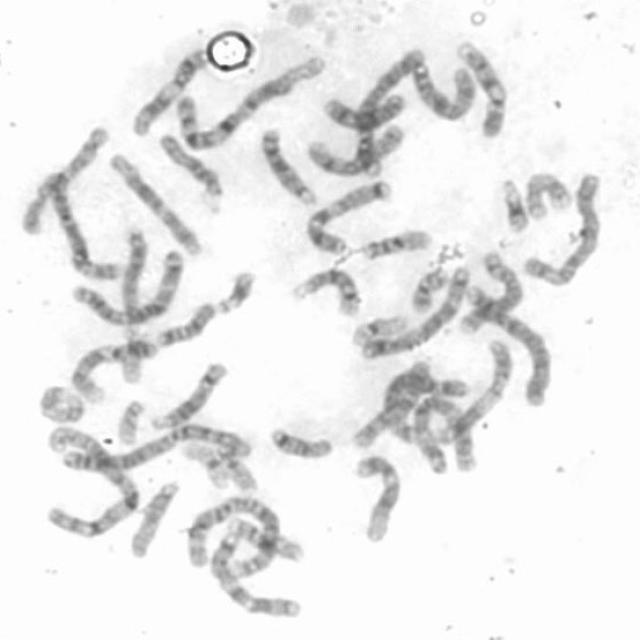A1: (173, 54, 329, 150), (43, 424, 141, 540)
A2: (60, 422, 252, 472), (184, 495, 282, 579)
A3: (71, 245, 186, 330), (409, 395, 479, 478)
B4: (464, 283, 552, 407), (358, 265, 468, 362)
B5: (351, 46, 427, 180), (381, 369, 470, 446)
C10: (17, 122, 111, 238), (348, 357, 436, 452)
C11: (437, 339, 514, 446), (130, 48, 207, 138)
C12: (108, 151, 204, 258), (350, 456, 400, 542)
C6: (522, 171, 604, 289), (40, 170, 122, 282)
C7: (208, 531, 304, 619), (304, 179, 392, 256)
C8: (457, 246, 524, 336), (304, 123, 408, 178)
C9: (67, 341, 160, 407), (454, 38, 509, 138)
D13: (260, 125, 320, 206), (323, 92, 405, 133)
D14: (148, 362, 229, 432), (290, 266, 362, 316)
D15: (158, 132, 225, 215), (125, 479, 182, 559)
E16: (229, 515, 307, 562), (361, 228, 434, 262)
E17: (523, 170, 575, 223), (38, 385, 86, 424)
E18: (154, 302, 215, 348), (267, 426, 336, 464)
F19: (180, 440, 232, 492), (348, 313, 408, 349)
F20: (214, 447, 261, 494), (409, 265, 449, 315)
G21: (216, 270, 260, 315), (499, 178, 531, 235)
G22: (114, 399, 146, 447), (117, 334, 146, 383)
X: (412, 61, 478, 126)
